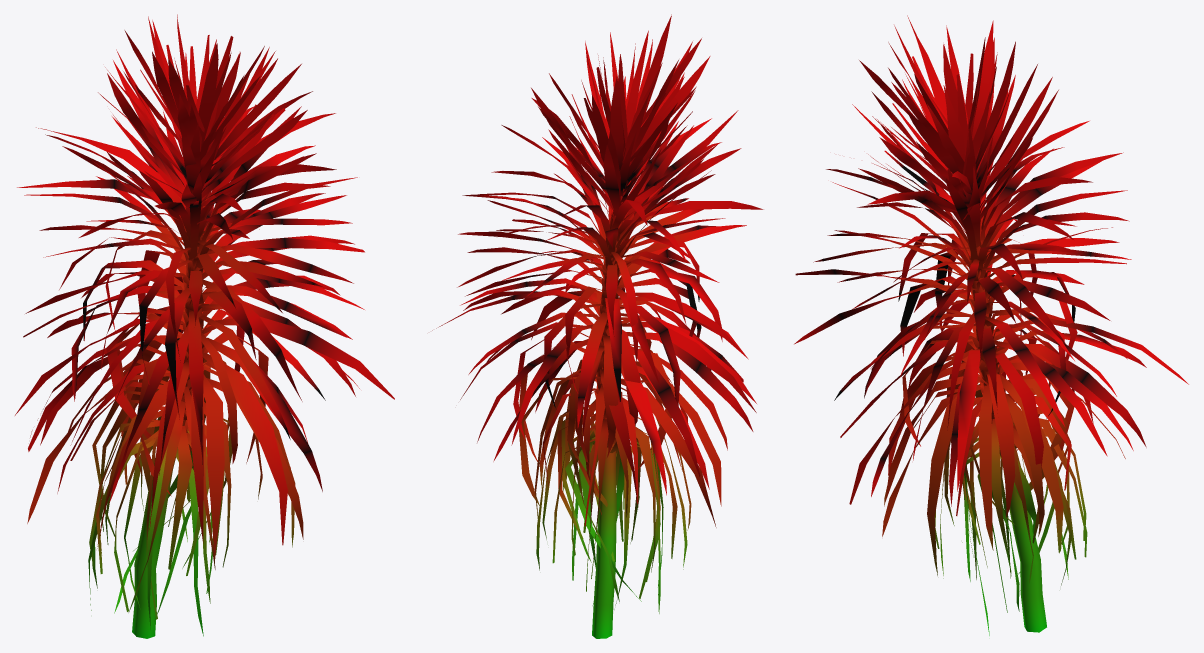
File: Var3_LOD4.fbx
The picture shows the model from 3 angles, left to right: view 1: azimuth 30°, elevation 25°; view 2: azimuth 150°, elevation 25°; view 3: azimuth 270°, elevation 25°; orthographic projection. The views are drawn at different scales.
Parts seen in each view (by area): view 1: _85of_Var3_LOD4; view 2: _85of_Var3_LOD4; view 3: _85of_Var3_LOD4.
Boxes of the visible parts, x1,y1,x2,y2 form: _85of_Var3_LOD4: [15, 14, 394, 638]; _85of_Var3_LOD4: [432, 14, 763, 638]; _85of_Var3_LOD4: [794, 15, 1188, 635].
Size of the model in its own units: 109 by 200 by 119.
